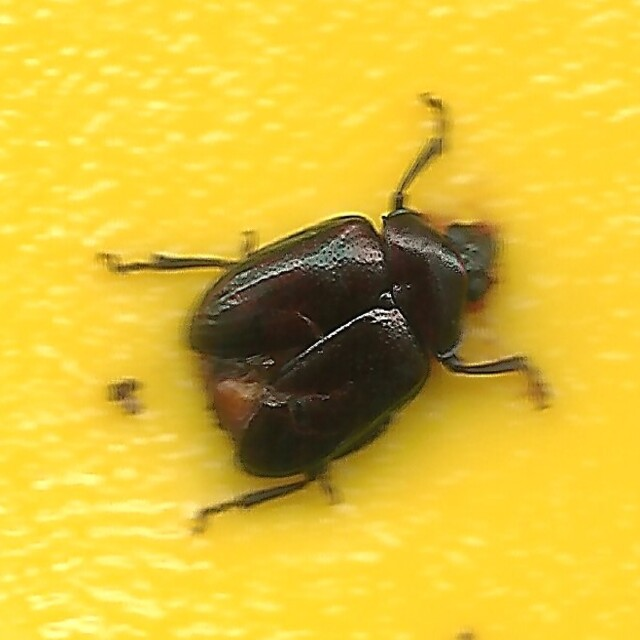Coleoptera: (97, 110, 543, 530)
